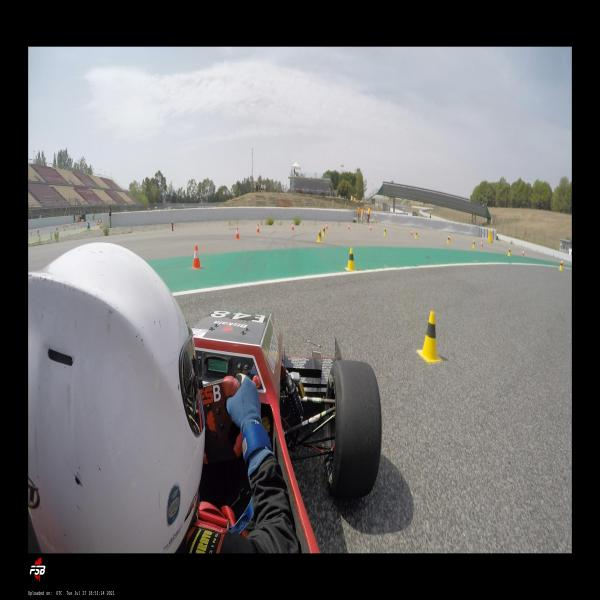orange_cone: (191, 245, 202, 269), (235, 228, 240, 239), (256, 224, 260, 232), (325, 222, 328, 230), (291, 223, 294, 230), (481, 240, 483, 247), (348, 224, 350, 230), (370, 225, 372, 231), (410, 230, 412, 236), (522, 250, 524, 256)
yellow_cone: (417, 310, 442, 363), (345, 248, 356, 271), (317, 229, 322, 242), (323, 226, 326, 236), (559, 261, 562, 271), (473, 240, 476, 248), (508, 247, 510, 256), (384, 227, 386, 236), (447, 236, 449, 243), (416, 231, 418, 238)
